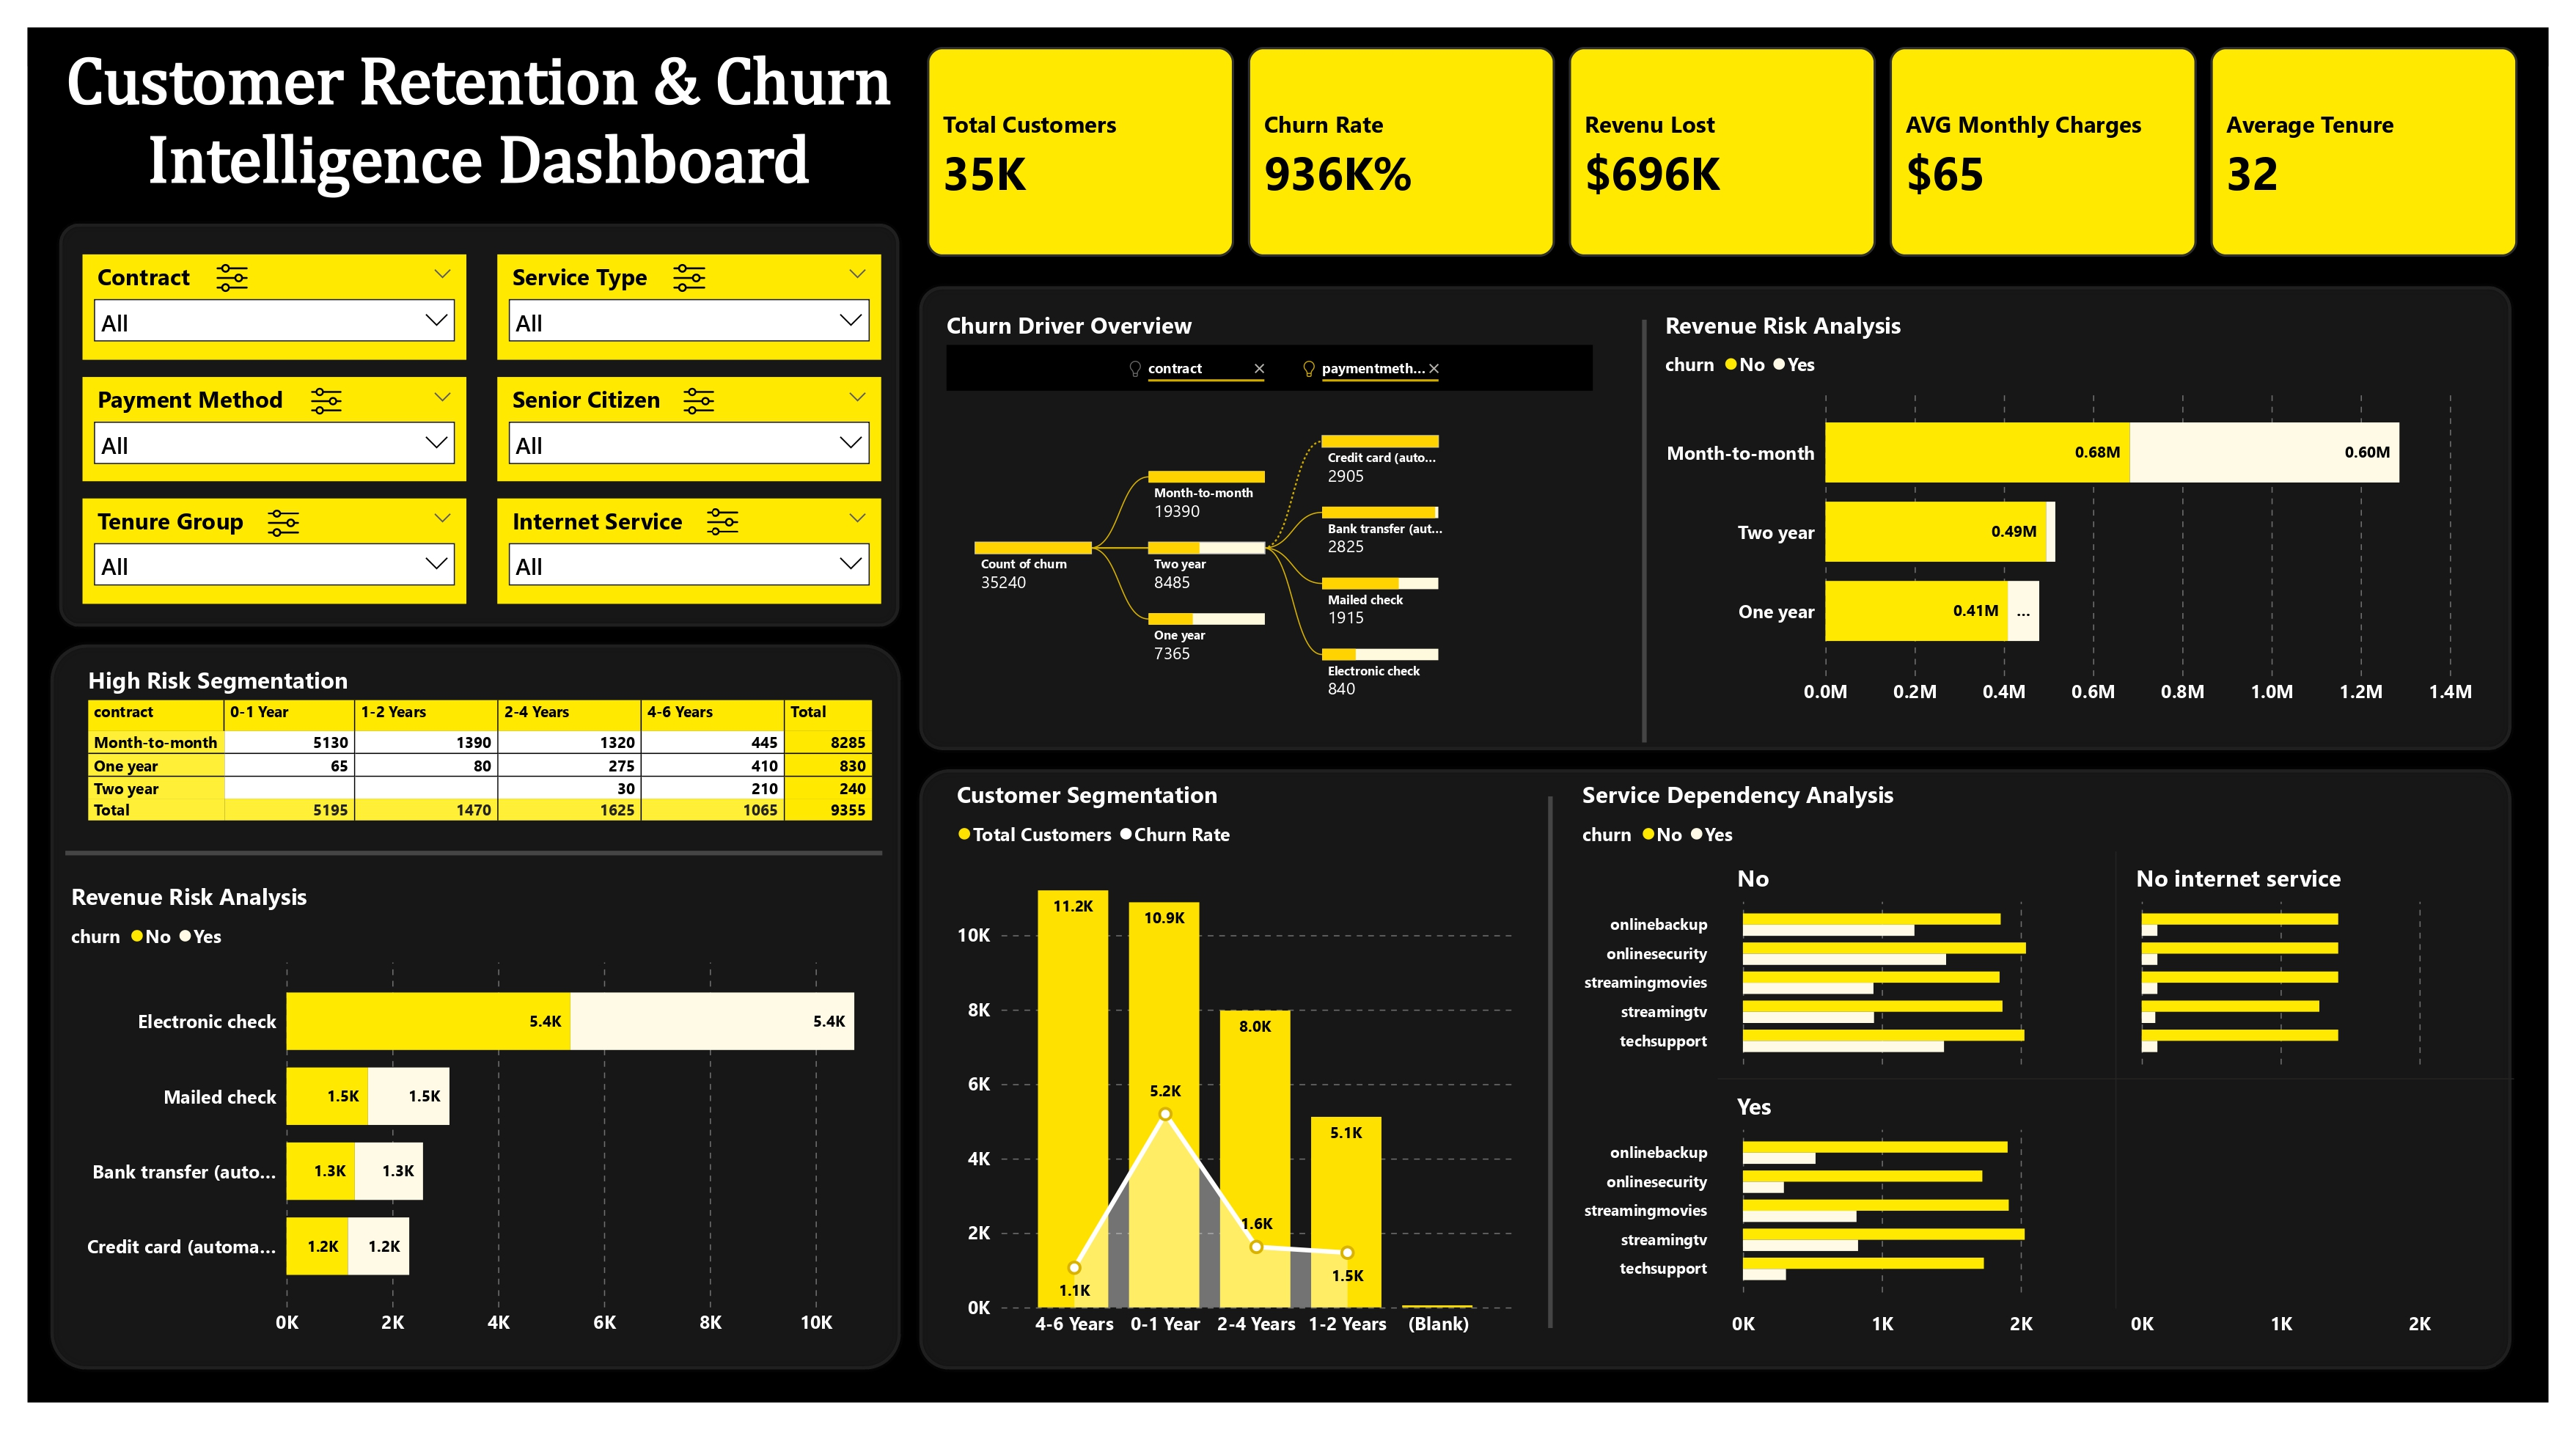

This screenshot's page, from the dashboard's own definition file:
{"tool":"powerbi","page":{"name":"Page 1","canvas":[2200,1200],"ordinal":0},"visuals":[{"type":"slicer","fields":{"Values":["teleco_churn data.contract"]},"box":[47.8,198.3,335,91.5],"z":0,"group":"g2"},{"type":"shape","box":[769.7,218.2,1406.1,421.2],"z":0},{"type":"slicer","fields":{"Values":["teleco_churn data.Service Type"]},"box":[409.9,198.3,335,91.5],"z":1000,"group":"g2"},{"type":"shape","box":[769.7,639.4,1406.1,539.4],"z":1000},{"type":"slicer","fields":{"Values":["teleco_churn data.paymentmethod"]},"box":[47.8,304.8,335,91.5],"z":2000,"group":"g2"},{"type":"shape","box":[12.1,530.3,757.6,648.5],"z":2000},{"type":"cardVisual","fields":{"Data":["teleco_churn data.Total Customers","teleco_churn data.Churned Customers","teleco_churn data.Revenu Lost","teleco_churn data.AVG Monthly Charges","teleco_churn data.Average Tenure"]},"box":[767.6,0,1423.5,217.6],"z":3000},{"type":"shape","box":[18.5,163,750,367.6],"z":3000,"group":"g1"},{"type":"slicer","fields":{"Values":["teleco_churn data.seniorcitizen"]},"box":[409.9,304.8,335,91.5],"z":3000,"group":"g2"},{"type":"decompositionTreeVisual","title":"Churn Driver Overview","fields":{"Analyze":["CountNonNull(teleco_churn data.churn)"],"ExplainBy":["teleco_churn data.contract","teleco_churn data.paymentmethod"]},"box":[797.4,244.9,573.1,388.5],"z":4000},{"type":"slicer","fields":{"Values":["teleco_churn data.TenureGroup"]},"box":[47.8,411.4,335,91.5],"z":4000,"group":"g2"},{"type":"slicer","fields":{"Values":["teleco_churn data.internetservice"]},"box":[409.9,411.4,335,91.5],"z":5000,"group":"g2"},{"type":"lineClusteredColumnComboChart","title":"Customer Segmentation","fields":{"Category":["teleco_churn data.TenureGroup"],"Y":["teleco_churn data.Total Customers"],"Y2":["teleco_churn data.Churn Rate"]},"box":[806.1,654.5,493.9,497],"z":5000},{"type":"barChart","title":"Revenue Risk Analysis","fields":{"Category":["teleco_churn data.contract"],"Y":["Sum(teleco_churn data.monthlycharges)"],"Series":["teleco_churn data.churn"]},"box":[1424.2,245.5,715.2,354.5],"z":6000},{"type":"pivotTable","title":"High Risk Segmentation","fields":{"Rows":["teleco_churn data.contract"],"Columns":["teleco_churn data.TenureGroup"],"Values":["teleco_churn data.Churn Rate"]},"box":[48.5,554.5,697,166.7],"z":7000},{"type":"clusteredBarChart","title":"Service Dependency Analysis","fields":{"Category":["teleco_churn data.Service Type"],"Y":["CountNonNull(teleco_churn data.customerid)"],"Series":["teleco_churn data.churn"],"Rows":["teleco_churn data.Service Status"]},"box":[1351.5,654.5,824.2,497],"z":8000},{"type":"barChart","title":"Revenue Risk Analysis","fields":{"Category":["teleco_churn data.paymentmethod"],"Y":["teleco_churn data.Churn Rate"],"Series":["teleco_churn data.churn"]},"box":[33.3,743.8,720.8,407.3],"z":9000},{"type":"group","id":"g1","title":"Group 3","box":[18.5,163,750,367.6],"z":10000},{"type":"textbox","box":[0,9.6,787.5,162.5],"z":11000},{"type":"group","id":"g2","title":"Group 1","box":[47.8,198.3,697.1,304.6],"z":11000,"group":"g3"},{"type":"image","box":[139.7,204.4,75.7,28.9],"z":12000,"group":"g3"},{"type":"shape","box":[33.3,710.4,712.5,20.8],"z":12000},{"type":"image","box":[539.6,204.4,75.7,28.9],"z":13000,"group":"g3"},{"type":"shape","box":[1314.4,671.1,29.9,463.9],"z":13000},{"type":"shape","box":[1404.8,254.8,12.1,369],"z":14000},{"type":"image","box":[226.1,312,69,28.3],"z":14000,"group":"g3"},{"type":"image","box":[548,312,75.7,28.3],"z":15000,"group":"g3"},{"type":"image","box":[185.3,418,75.7,28.9],"z":16000,"group":"g3"},{"type":"image","box":[568.7,417.6,75.4,28.9],"z":17000,"group":"g3"},{"type":"group","id":"g3","title":"Group 2","box":[47.8,198.3,697.1,304.6],"z":18001,"group":"g1"}]}

Visuals, with their boxes on the page's 2200x1200 design canvas (x1, y1, x2, y2). These are canvas units, not pixel positions in the 2576x1430 screenshot, which may show the page scaled, cropped or inside an application window:
slicer - teleco_churn data.contract: (48, 198, 383, 290)
shape: (770, 218, 2176, 639)
slicer - teleco_churn data.Service Type: (410, 198, 745, 290)
shape: (770, 639, 2176, 1179)
slicer - teleco_churn data.paymentmethod: (48, 305, 383, 396)
shape: (12, 530, 770, 1179)
cardVisual - teleco_churn data.Total Customers x teleco_churn data.Churned Customers: (768, 0, 2191, 218)
shape: (18, 163, 768, 531)
slicer - teleco_churn data.seniorcitizen: (410, 305, 745, 396)
"Churn Driver Overview" decompositionTreeVisual: (797, 245, 1370, 633)
slicer - teleco_churn data.TenureGroup: (48, 411, 383, 503)
slicer - teleco_churn data.internetservice: (410, 411, 745, 503)
"Customer Segmentation" lineClusteredColumnComboChart: (806, 654, 1300, 1152)
"Revenue Risk Analysis" barChart: (1424, 246, 2139, 600)
"High Risk Segmentation" pivotTable: (48, 554, 746, 721)
"Service Dependency Analysis" clusteredBarChart: (1352, 654, 2176, 1152)
"Revenue Risk Analysis" barChart: (33, 744, 754, 1151)
"Group 3" group: (18, 163, 768, 531)
textbox: (0, 10, 788, 172)
"Group 1" group: (48, 198, 745, 503)
image: (140, 204, 215, 233)
shape: (33, 710, 746, 731)
image: (540, 204, 615, 233)
shape: (1314, 671, 1344, 1135)
shape: (1405, 255, 1417, 624)
image: (226, 312, 295, 340)
image: (548, 312, 624, 340)
image: (185, 418, 261, 447)
image: (569, 418, 644, 446)
"Group 2" group: (48, 198, 745, 503)
